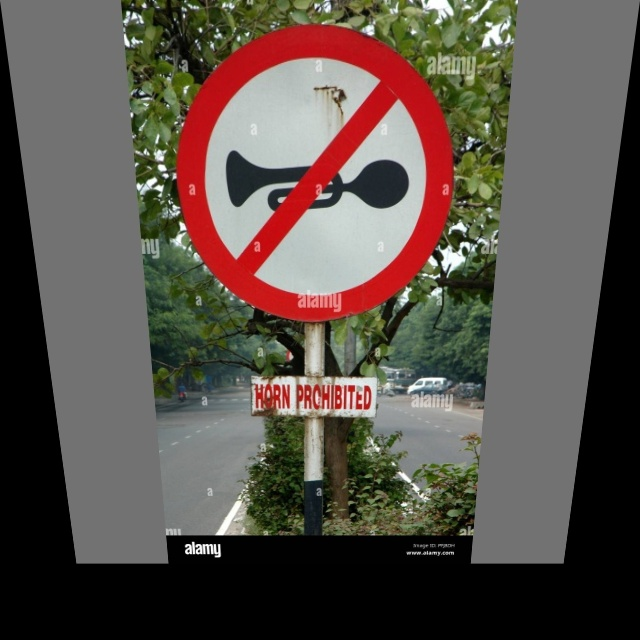Horn_Prohibited: (176, 29, 461, 314)
